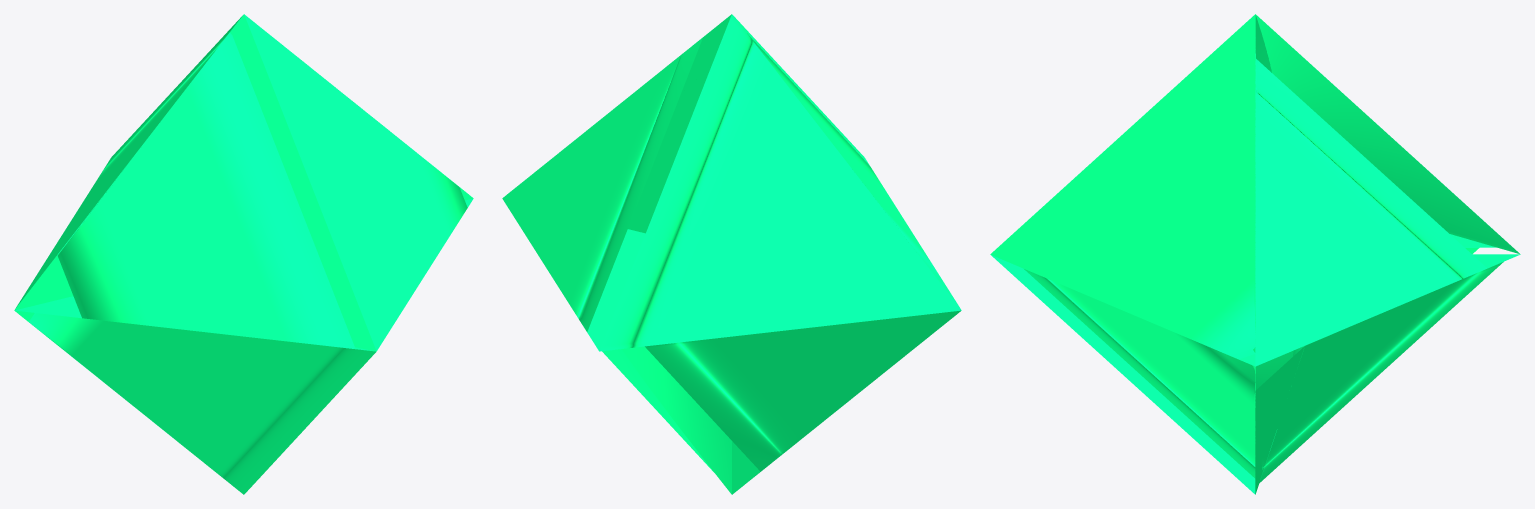
The model's file is sixteen_cell_cross_polytope_ar_universal.glb.
3 views of the same model, side by side, from view 1: azimuth 30°, elevation 25°; view 2: azimuth 150°, elevation 25°; view 3: azimuth 270°, elevation 25° (orthographic).
Parts seen in each view (by area): view 1: sixteen_cell_cross_polytope_ar; view 2: sixteen_cell_cross_polytope_ar; view 3: sixteen_cell_cross_polytope_ar.
Part boxes in pixels (x1,y1,x2,y2): sixteen_cell_cross_polytope_ar: [14, 14, 473, 494]; sixteen_cell_cross_polytope_ar: [502, 14, 961, 494]; sixteen_cell_cross_polytope_ar: [990, 14, 1520, 494].
Size of the model in its own units: 1 by 1 by 1.
